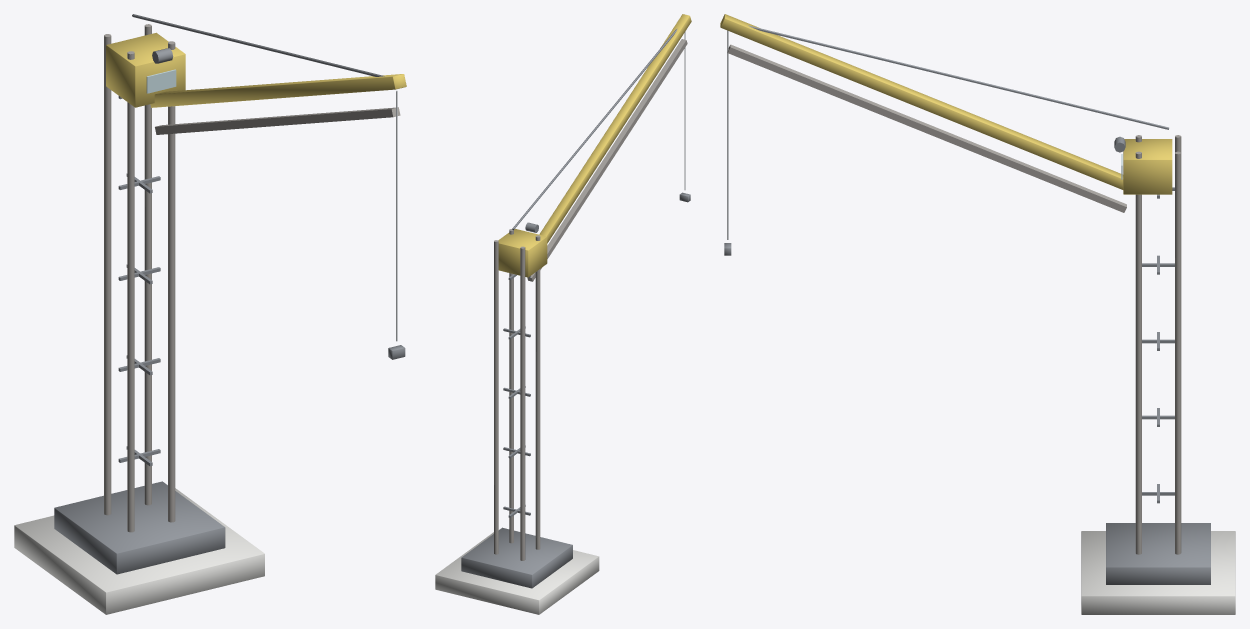
Rendered from HarborCrane.fbx.
The picture shows the model from 3 angles, left to right: view 1: azimuth 30°, elevation 25°; view 2: azimuth 150°, elevation 25°; view 3: azimuth 270°, elevation 25°; orthographic projection. The views are drawn at different scales.
Parts seen in each view (by area): view 1: LOD0; view 2: LOD0; view 3: LOD0.
Boxes of the visible parts, bbox=[...] form: LOD0: bbox=[14, 14, 406, 614]; LOD0: bbox=[435, 14, 691, 614]; LOD0: bbox=[720, 14, 1235, 614].
Size of what is drawn, in the model's own units: 220 by 892 by 735.
